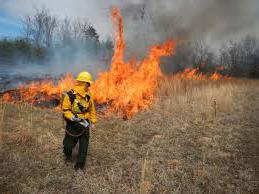fire: (8, 14, 170, 121), (174, 65, 231, 82)
